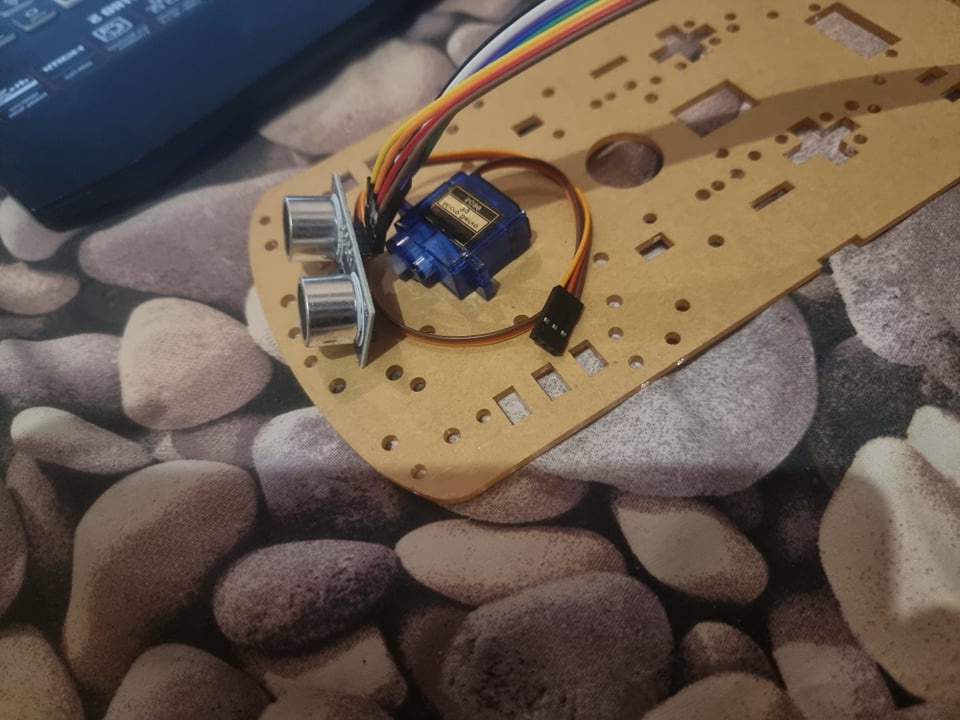SENSOR: (280, 171, 367, 363)
